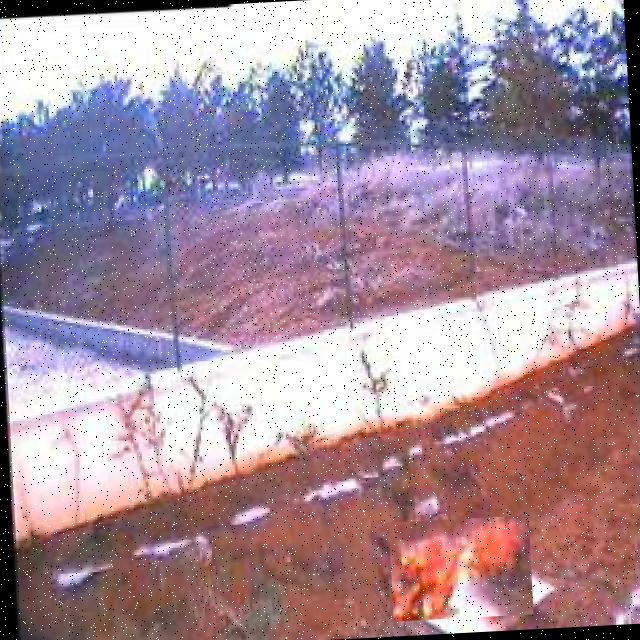fire: (388, 516, 534, 622)
